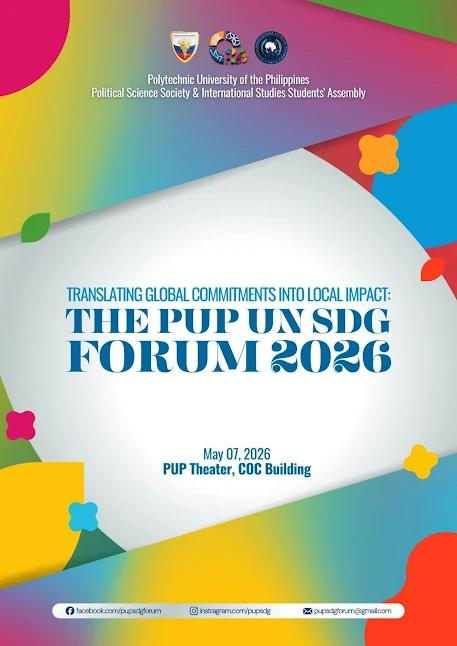embellishment: (65, 604, 77, 617), (301, 605, 314, 617), (188, 605, 200, 617)
logo: (205, 25, 250, 68), (252, 25, 291, 67), (166, 26, 203, 66)
text: (59, 280, 396, 381), (90, 71, 369, 104), (157, 441, 315, 481), (74, 604, 166, 616), (199, 605, 274, 616), (313, 606, 394, 615)
underlay: (52, 602, 404, 619)
